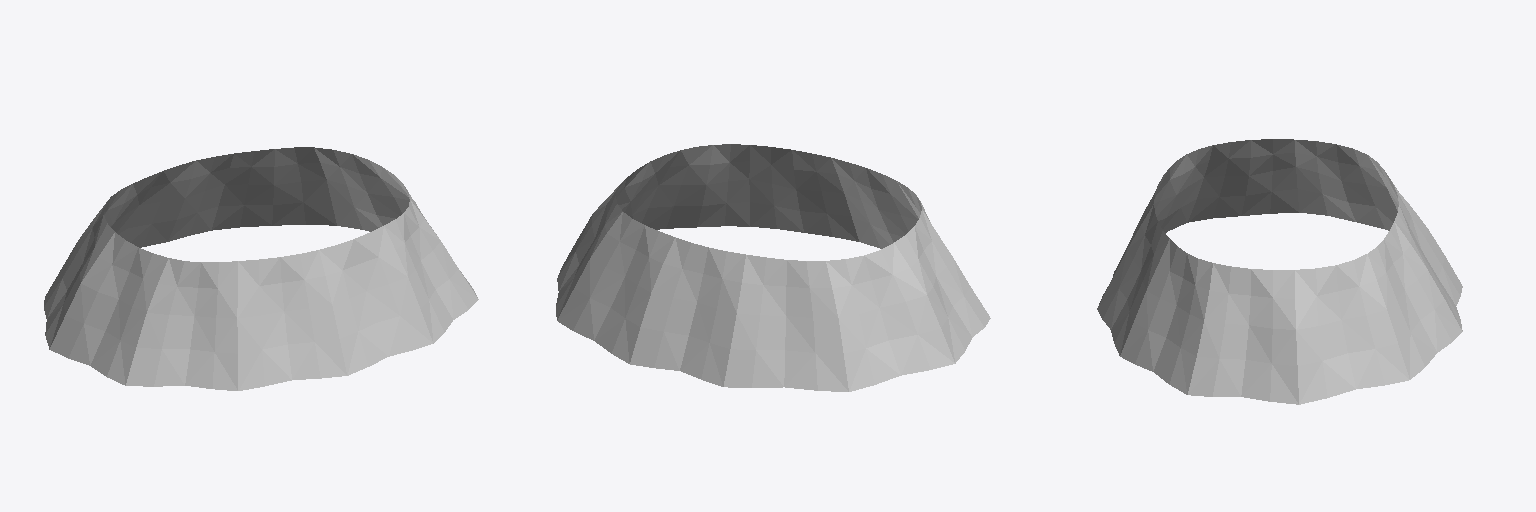
The model's file is 8_peplumtight.obj.
3 views of the same model, side by side, from view 1: azimuth 30°, elevation 25°; view 2: azimuth 150°, elevation 25°; view 3: azimuth 270°, elevation 25° (orthographic).
Parts seen in each view (by area): view 1: peplumfront, peplumback; view 2: peplumback, peplumfront; view 3: peplumfront, peplumback.
Part boxes in pixels (bbox=[...]): peplumfront: bbox=[50, 168, 478, 390]; peplumback: bbox=[44, 147, 409, 349]; peplumback: bbox=[556, 179, 954, 391]; peplumfront: bbox=[616, 144, 990, 363]; peplumfront: bbox=[1097, 139, 1298, 404]; peplumback: bbox=[1295, 140, 1462, 404].
Size of the model in its own units: 15.15 by 3.9 by 12.18.